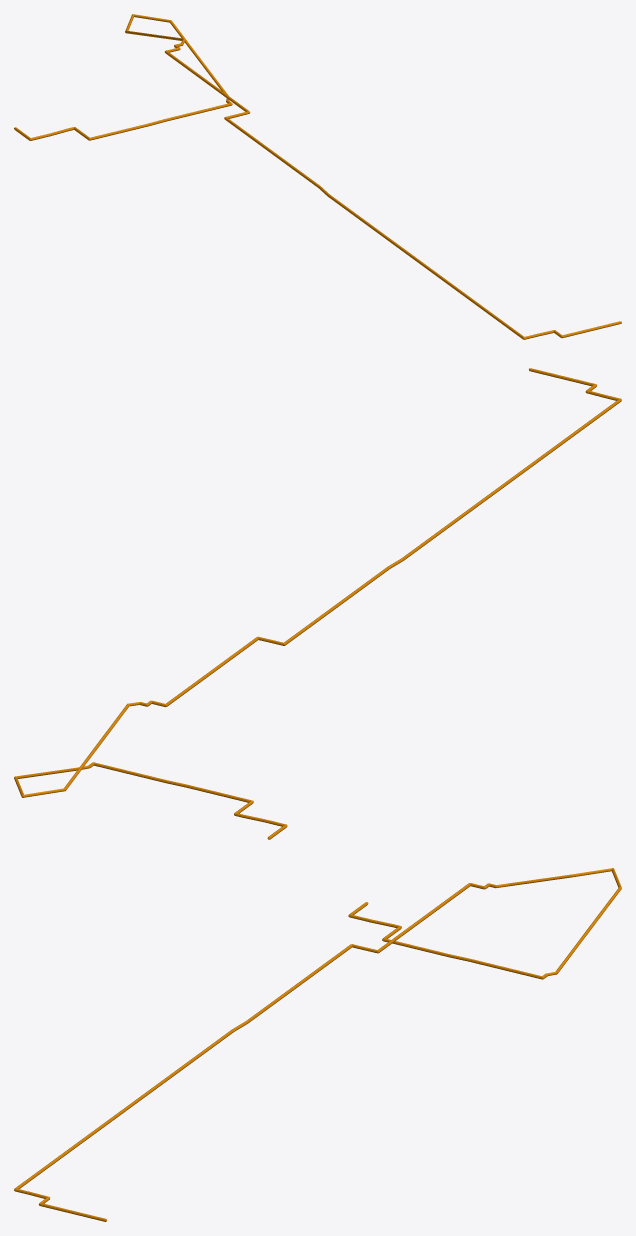
The picture shows the model from 3 angles, top to bottom: view 1: azimuth 30°, elevation 25°; view 2: azimuth 150°, elevation 25°; view 3: azimuth 330°, elevation 25°; orthographic projection. The views are drawn at different scales.
Bounding box in the file's own units: 1492 × 520 × 6292.
